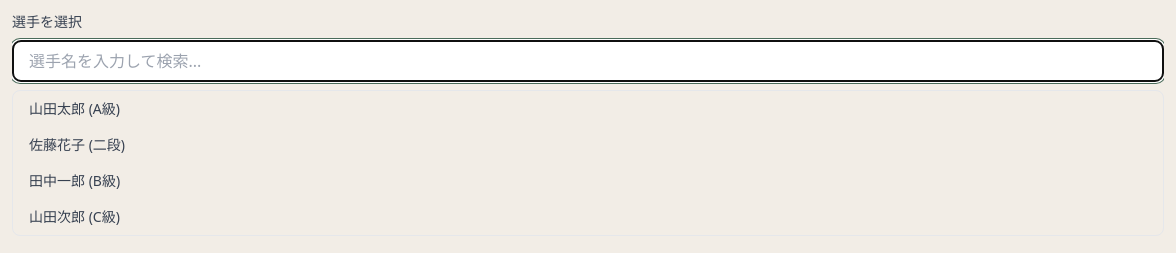
Test: PlayerSearchCombobox › 検索語入力で候補が部分一致で絞り込まれる
Type "山田" into the dropdown. click: (588, 61)
box: x1=12 y1=40 x2=1164 y2=82
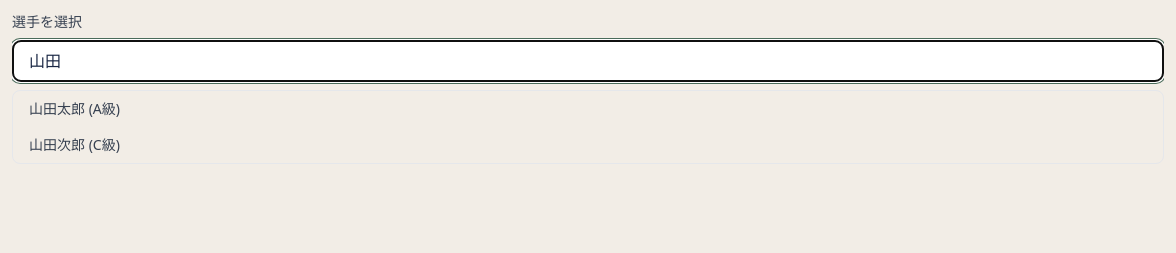
Expected: the option "山田太郎 (A級)" is shown, x1=29 y1=99 x2=120 y2=118
Result: the number of options is 2 at x1=29 y1=99 x2=120 y2=118; x1=29 y1=135 x2=120 y2=154
